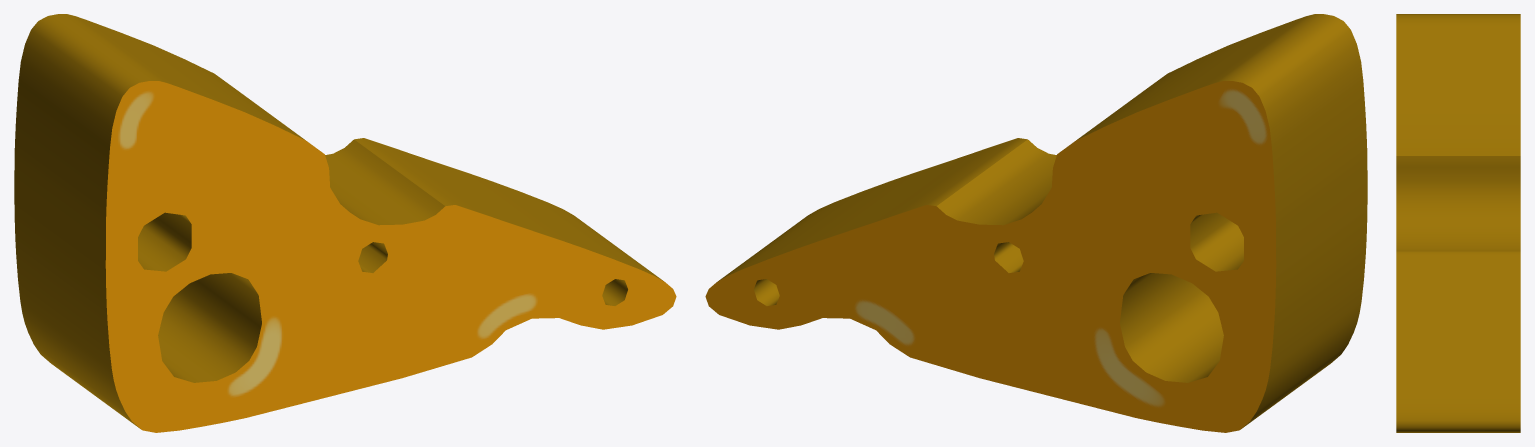
The model's file is mesh_Swiss_Cheese_v1.0.fbx.
3 views of the same model, side by side, from view 1: azimuth 30°, elevation 25°; view 2: azimuth 150°, elevation 25°; view 3: azimuth 270°, elevation 25° (orthographic). The views are drawn at different scales.
Visible parts, largest first — view 1: pCube31; view 2: pCube31; view 3: pCube31.
Part boxes in pixels (x1,y1,x2,y2): pCube31: [14, 14, 676, 432]; pCube31: [705, 14, 1367, 432]; pCube31: [1396, 14, 1520, 432].
Bounding box in the file's own units: 105 × 63.72 × 29.08.
